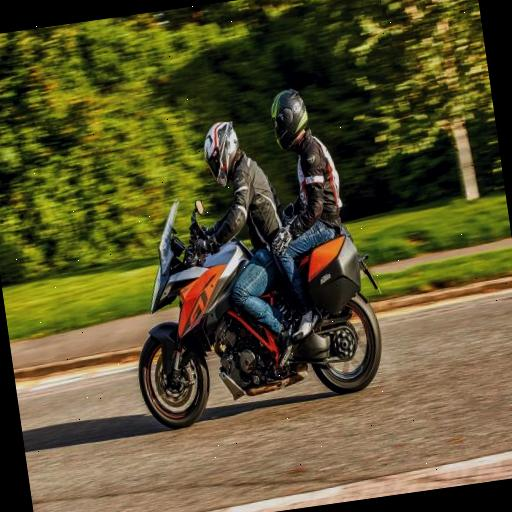helmet: (180, 98, 283, 220)
